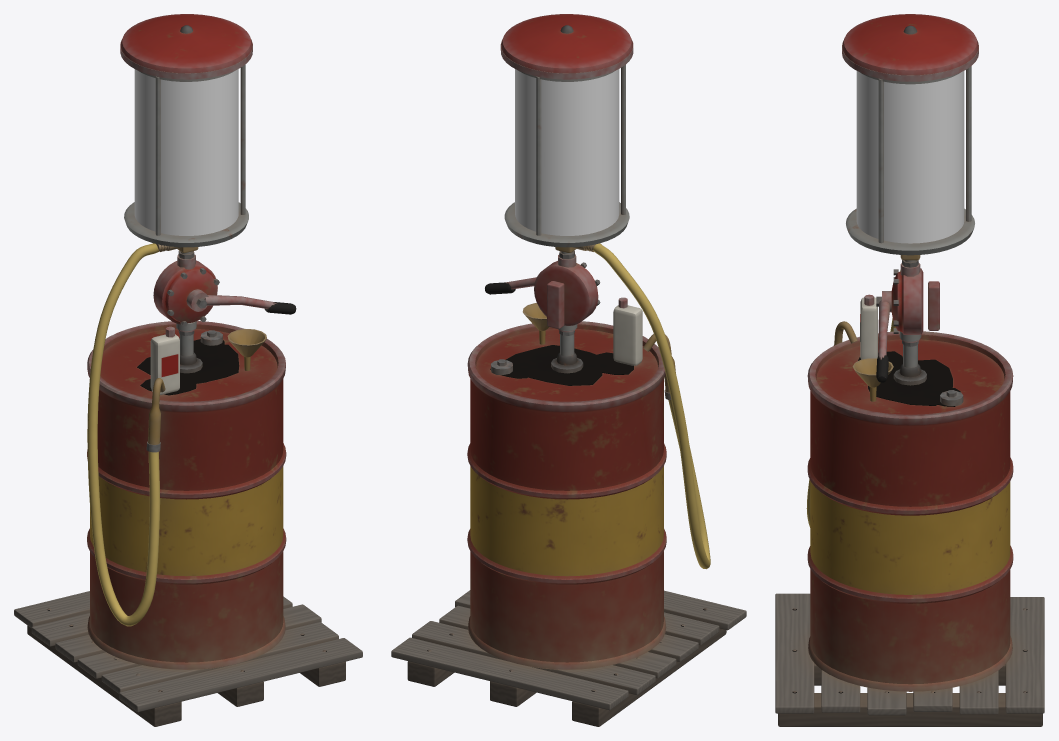
The model's file is GasPumpV3.fbx.
3 views of the same model, side by side, from view 1: azimuth 30°, elevation 25°; view 2: azimuth 150°, elevation 25°; view 3: azimuth 270°, elevation 25° (orthographic). The views are drawn at different scales.
Visible parts, largest first — view 1: GasPump, GlassTube, HandCrank, Nozzle; view 2: GasPump, GlassTube; view 3: GasPump, GlassTube, HandCrank.
Part boxes in pixels (x1,y1,x2,y2): GasPump: (14, 14, 362, 726); GlassTube: (134, 69, 238, 235); HandCrank: (186, 289, 296, 314); Nozzle: (146, 378, 165, 452); GasPump: (391, 14, 746, 726); GlassTube: (515, 69, 619, 235); GasPump: (775, 14, 1044, 726); GlassTube: (856, 71, 964, 243); HandCrank: (876, 291, 891, 382).
Size of the model in its own units: 78.12 by 206 by 77.
5 materials, 4 textured.
